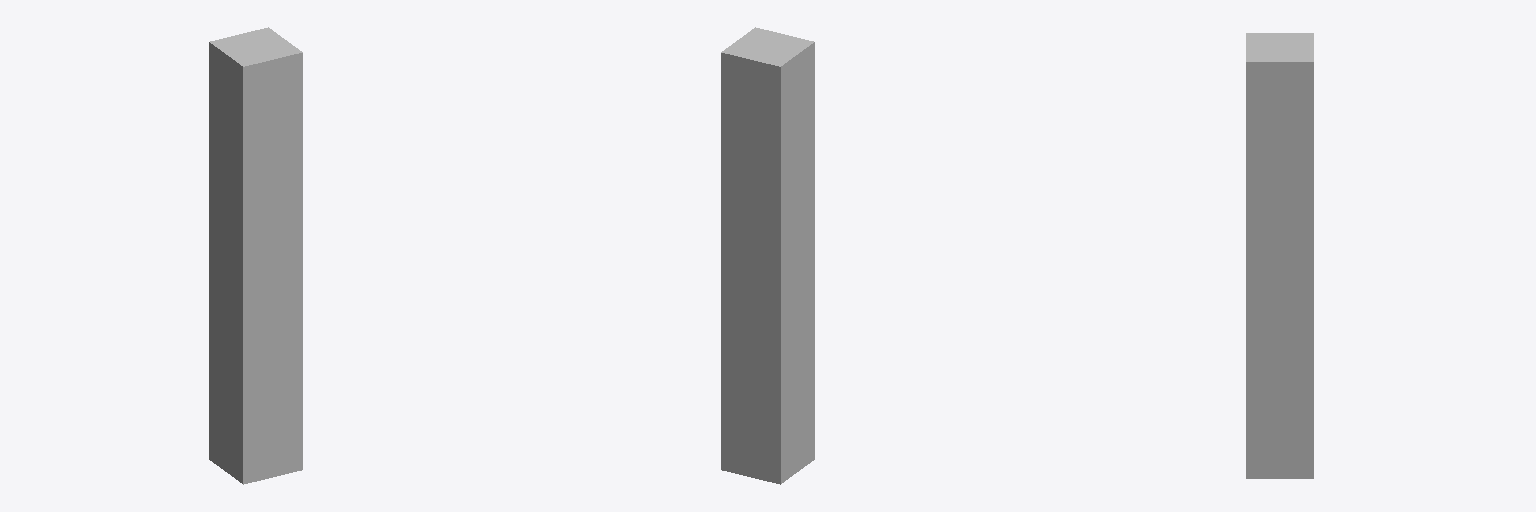
Rendered from BuildingV7.obj.
The picture shows the model from 3 angles: view 1: azimuth 30°, elevation 25°; view 2: azimuth 150°, elevation 25°; view 3: azimuth 270°, elevation 25°; orthographic projection.
Visible parts, largest first — view 1: polySurface114; view 2: polySurface114; view 3: polySurface114.
Boxes of the visible parts, <box> form: polySurface114: <box>209,27,302,484</box>; polySurface114: <box>721,27,814,484</box>; polySurface114: <box>1246,33,1313,478</box>.
Size of the model in its own units: 1.01 by 6.71 by 1.01.